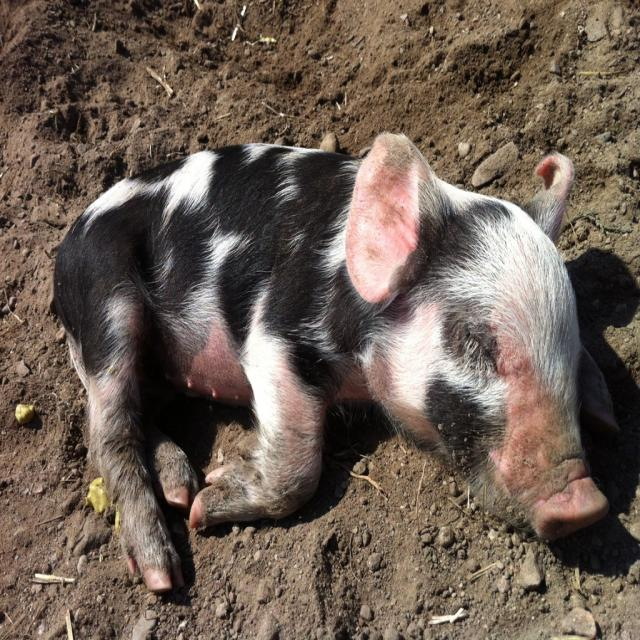Pig: (48, 133, 609, 592)
